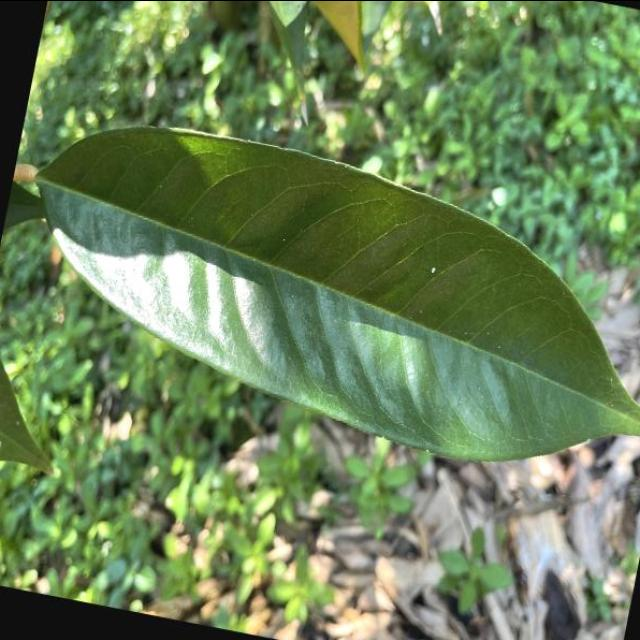No Disease: (0, 85, 640, 502)
